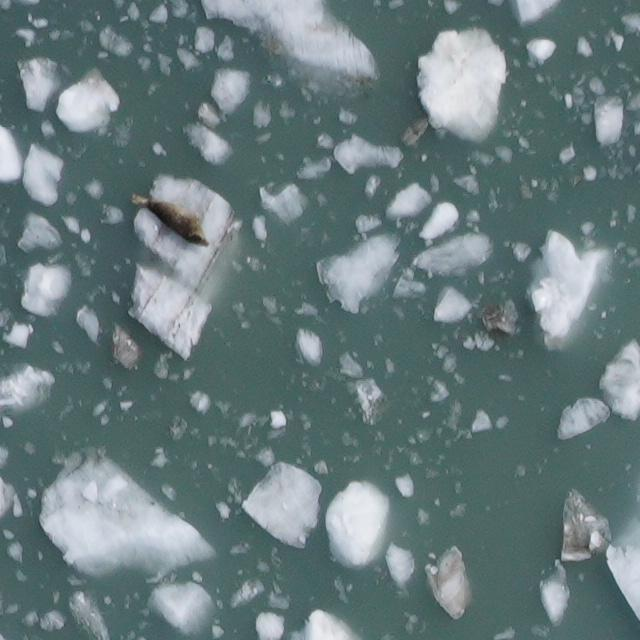seal: (121, 184, 220, 252)
